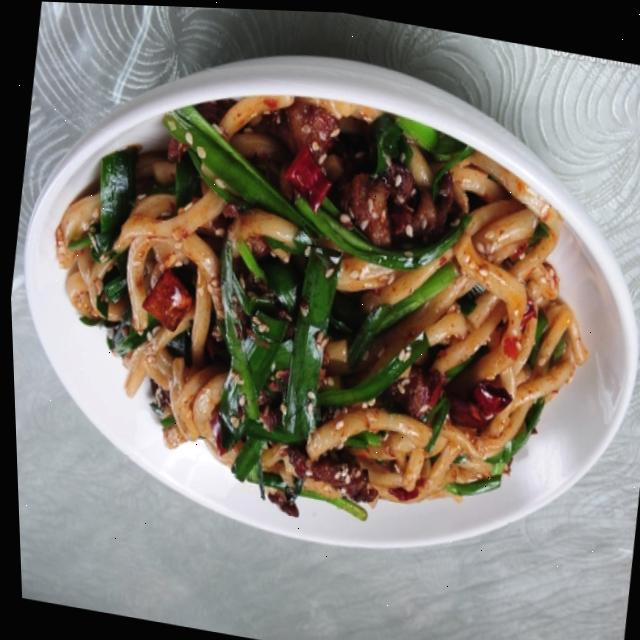面条主食: (0, 17, 640, 621)
